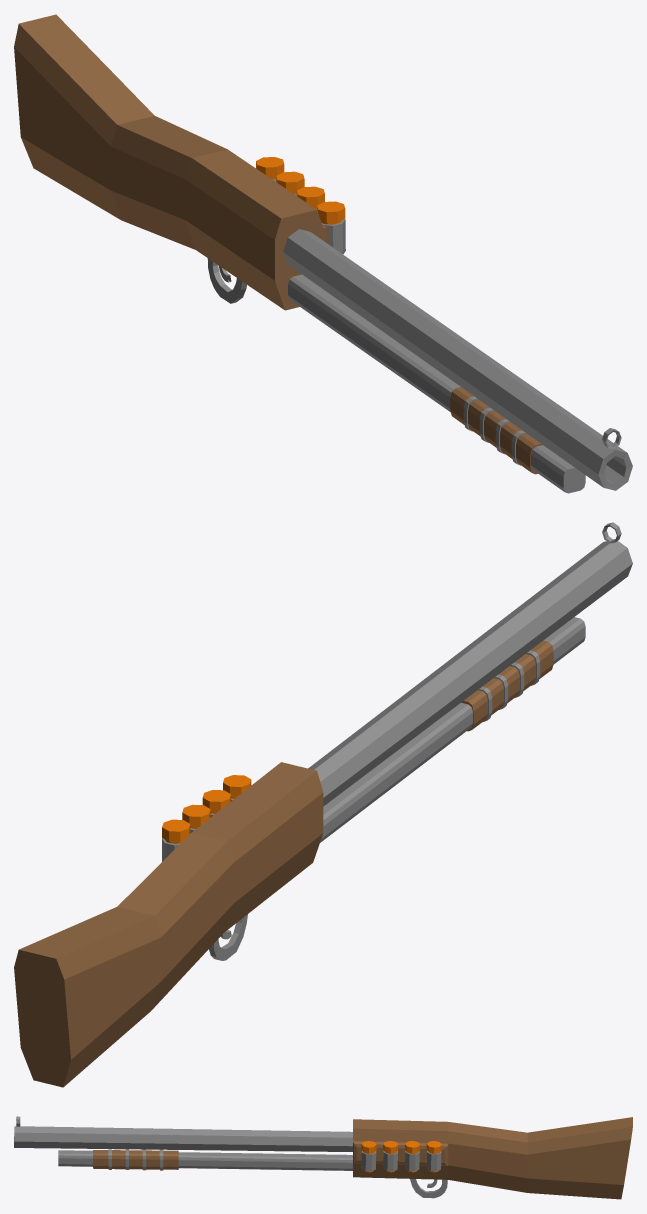
The model's file is shotgun.obj.
3 renders of one model, top to bottom at view 1: azimuth 30°, elevation 25°; view 2: azimuth 150°, elevation 25°; view 3: azimuth 270°, elevation 25°, orthographic. The views are drawn at different scales.
Size of the model in its own units: 0.6764 by 1.15 by 7.99.
